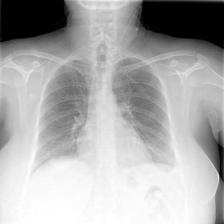normal: (29, 46, 182, 188)
